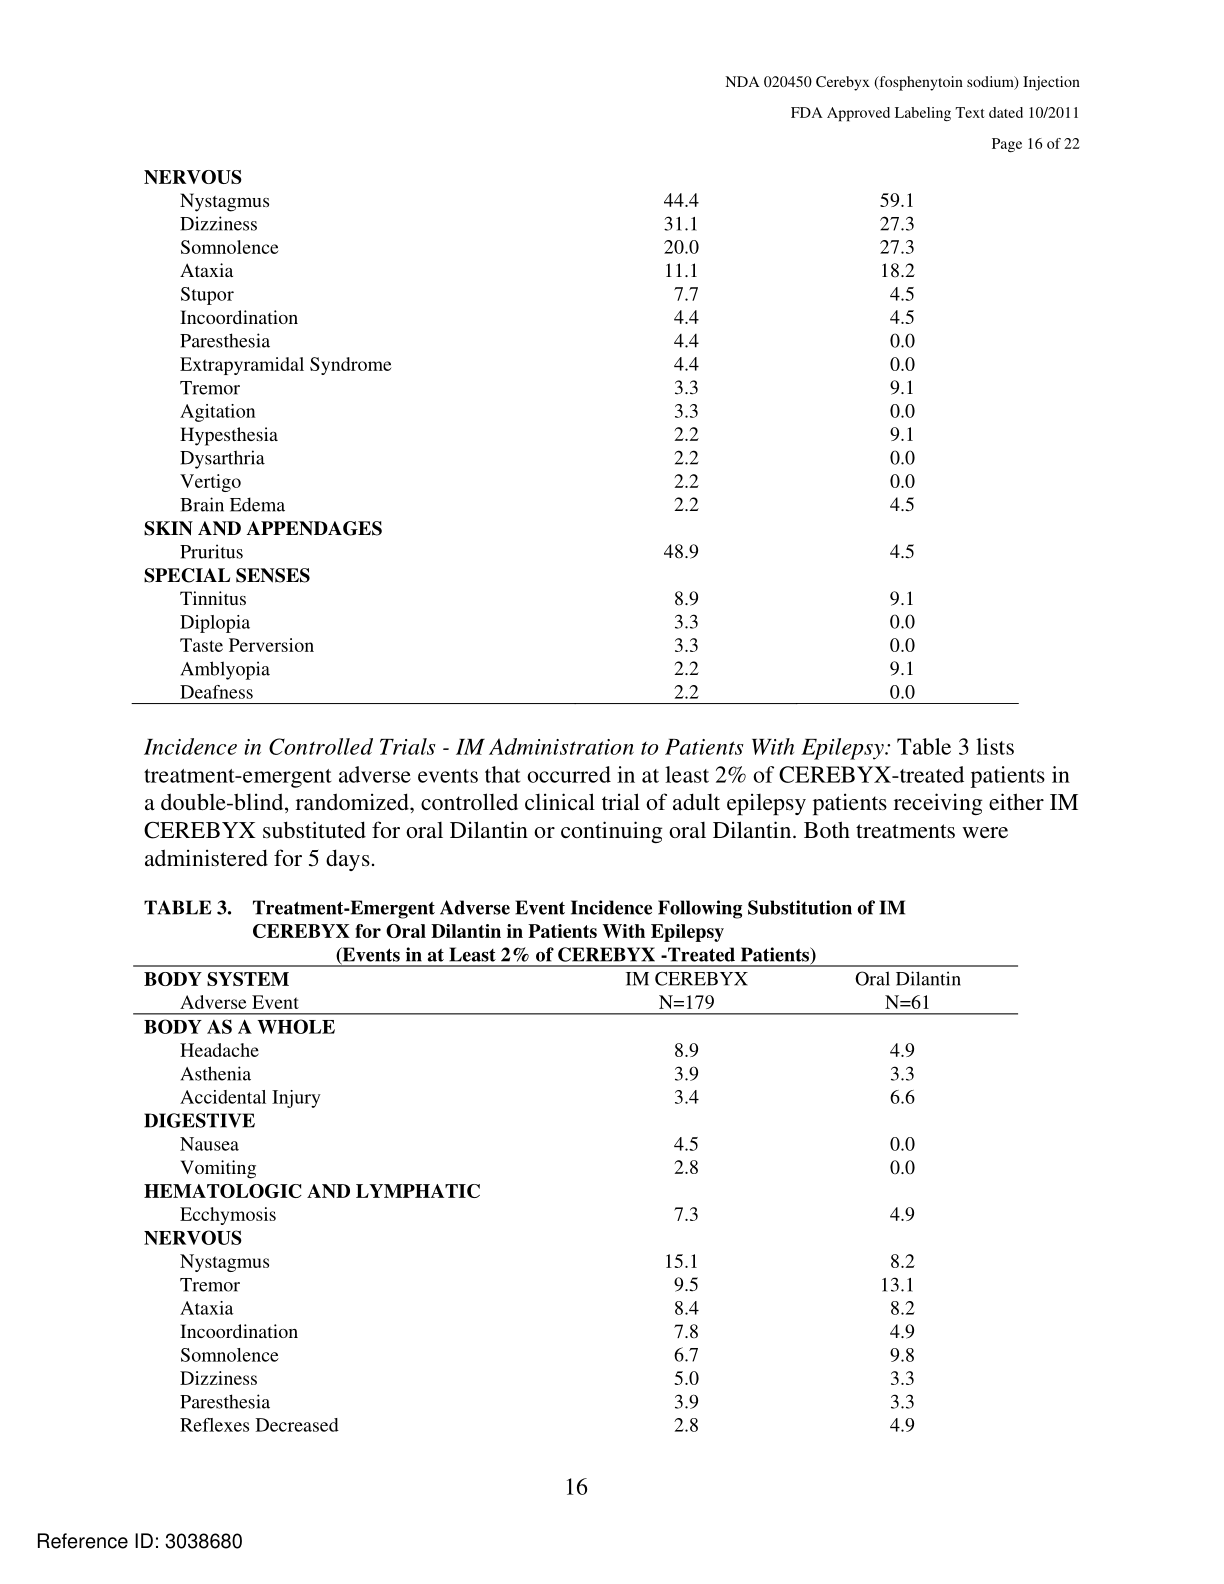partial_lined: (130, 159, 1020, 706), (132, 966, 1017, 1439)
